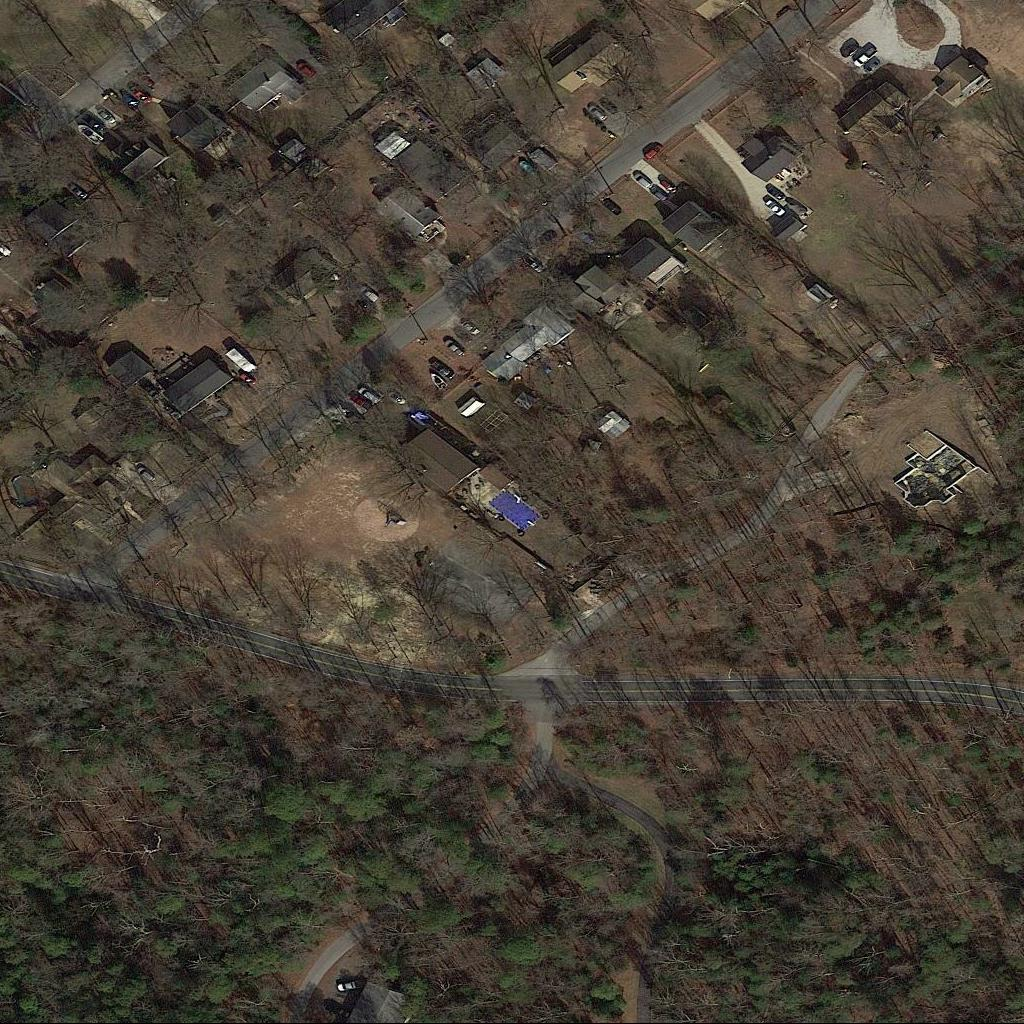ship: (74, 122, 106, 146), (428, 371, 449, 391)
